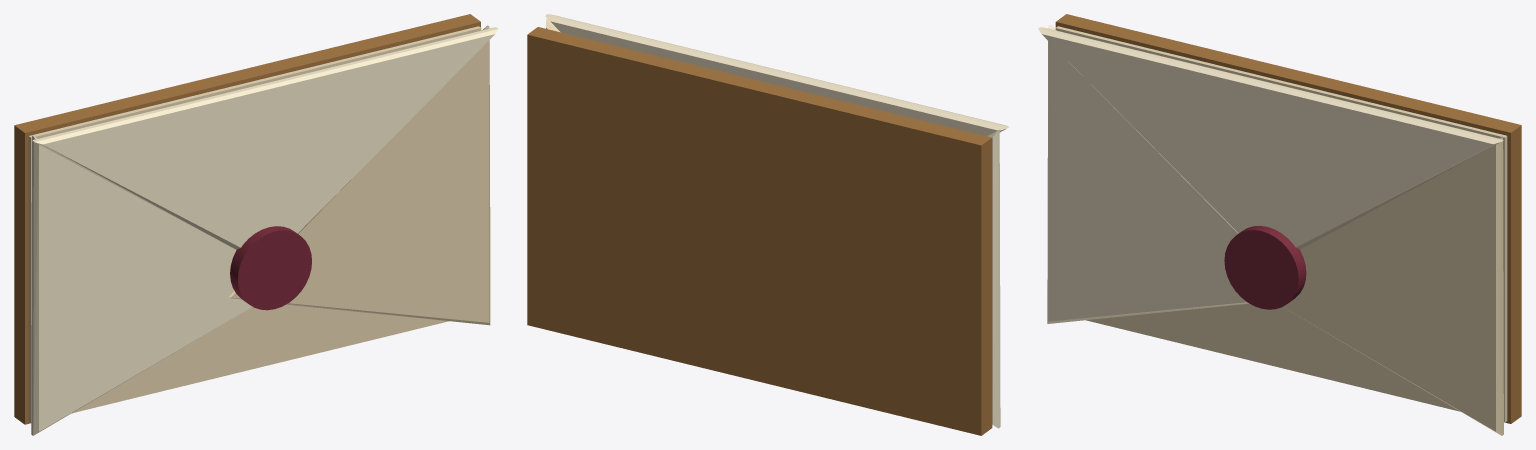
File: envelope.glb
3 renders of one model, left to right at view 1: azimuth 30°, elevation 25°; view 2: azimuth 150°, elevation 25°; view 3: azimuth 330°, elevation 25°, orthographic.
Visible parts, largest first — view 1: flap, fold-left, fold-right, body-face, body-corrugation, wax-seal; view 2: body-corrugation, flap, fold-left; view 3: flap, fold-right, fold-left, body-face, body-corrugation, wax-seal.
Part boxes in pixels (<box>): flap: <box>32,27,498,249</box>; fold-left: <box>31,135,252,435</box>; fold-right: <box>228,25,490,325</box>; body-face: <box>28,26,481,422</box>; body-corrugation: <box>14,14,480,424</box>; wax-seal: <box>230,226,311,310</box>; body-corrugation: <box>527,27,992,435</box>; flap: <box>545,14,1009,136</box>; fold-left: <box>987,129,1000,428</box>; flap: <box>1038,27,1503,249</box>; fold-right: <box>1283,136,1503,435</box>; fold-left: <box>1047,25,1248,323</box>; body-face: <box>1055,26,1507,422</box>; body-corrugation: <box>1055,14,1521,423</box>; wax-seal: <box>1224,226,1306,309</box>.
Size of the model in its own units: 2.75 by 1.69 by 0.335.
